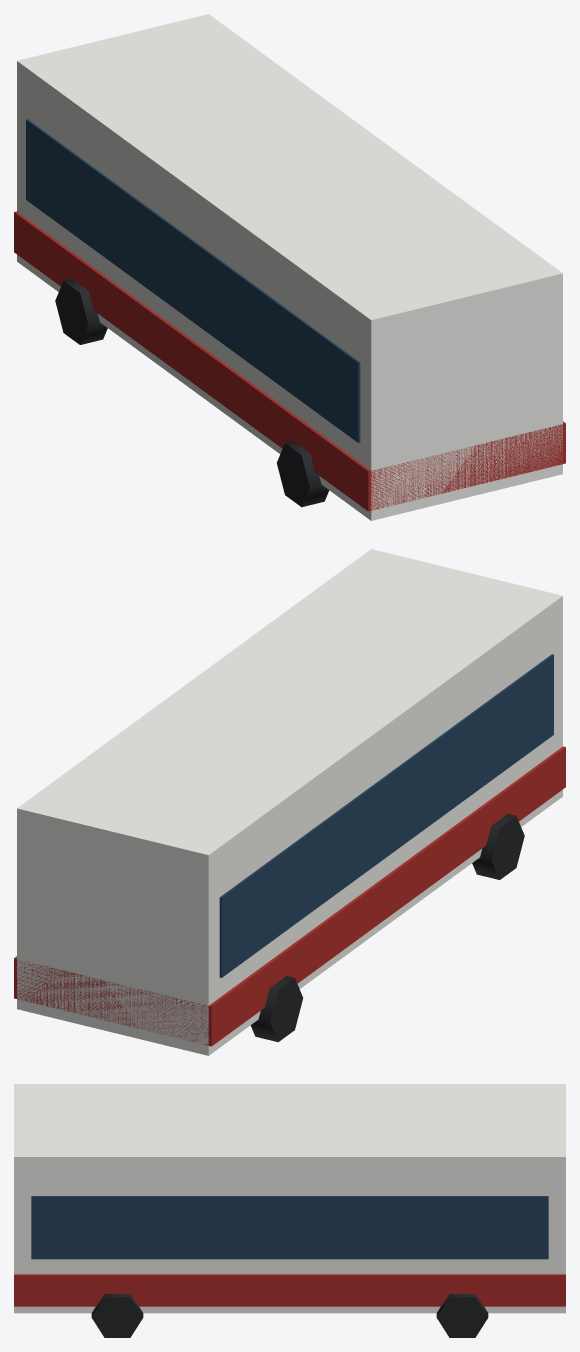
Rendered from vehicle_bus.glb.
The picture shows the model from 3 angles, top to bottom: view 1: azimuth 30°, elevation 25°; view 2: azimuth 150°, elevation 25°; view 3: azimuth 270°, elevation 25°; orthographic projection. The views are drawn at different scales.
Parts seen in each view (by area): view 1: vehicle_bus; view 2: vehicle_bus; view 3: vehicle_bus.
Boxes of the visible parts, x1=… form: vehicle_bus: x1=14, y1=14, x2=565, y2=520; vehicle_bus: x1=14, y1=549, x2=565, y2=1055; vehicle_bus: x1=14, y1=1084, x2=565, y2=1337.
Bounding box in the file's own units: 0.112 × 0.113 × 0.32.
